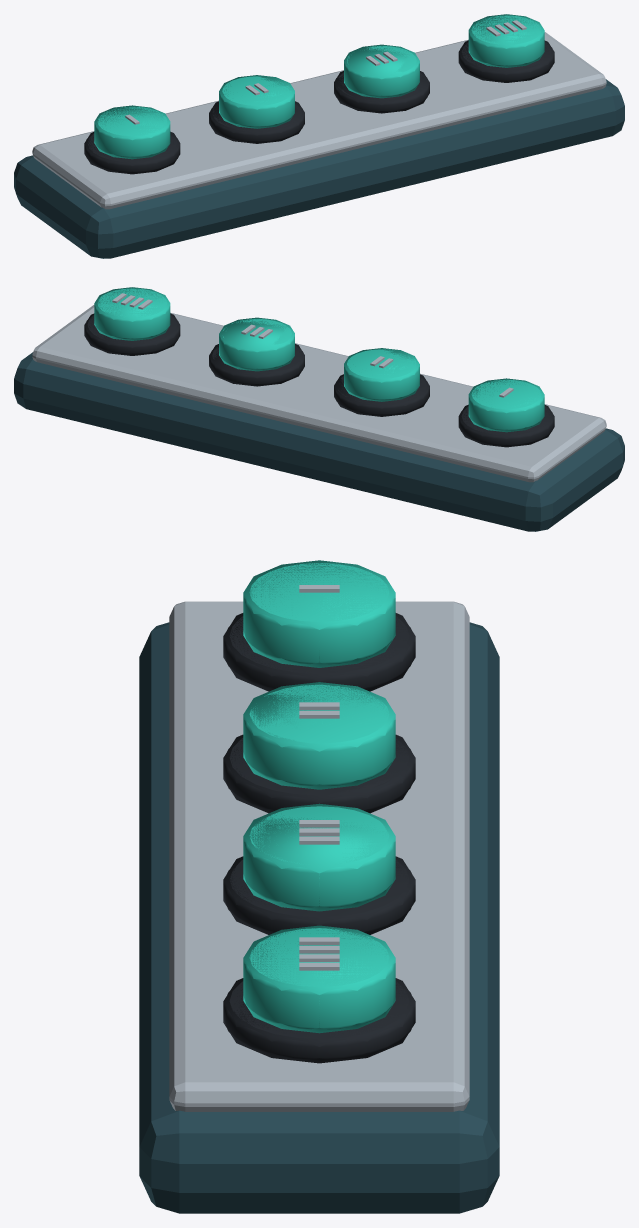
The model's file is panel-view-four.glb.
3 renders of one model, top to bottom at view 1: azimuth 30°, elevation 25°; view 2: azimuth 150°, elevation 25°; view 3: azimuth 270°, elevation 25°, orthographic. The views are drawn at different scales.
Parts seen in each view (by area): view 1: panel_shell, panel_face, view_1, view_2, view_4, view_3, view_3.001, view_4.001, view_1.001, socket1, socket4, socket2 (+6 smaller); view 2: panel_shell, panel_face, view_1, view_2, view_4, view_3, view_3.001, socket1, view_4.001, socket4, socket2, socket3 (+6 smaller); view 3: panel_face, panel_shell, view_1, view_2, view_4, view_3, view_3.001, socket4, socket1, socket3, socket2, view_2.001 (+6 smaller).
Boxes of the visible parts, x1=… form: panel_shell: x1=14, y1=79, x2=624, y2=258; panel_face: x1=32, y1=32, x2=606, y2=209; view_1: x1=94, y1=107, x2=170, y2=157; view_2: x1=219, y1=76, x2=294, y2=127; view_4: x1=468, y1=15, x2=544, y2=66; view_3: x1=344, y1=46, x2=419, y2=96; view_3.001: x1=344, y1=44, x2=419, y2=98; view_4.001: x1=468, y1=14, x2=544, y2=67; view_1.001: x1=94, y1=105, x2=170, y2=159; socket1: x1=84, y1=133, x2=180, y2=172; socket4: x1=458, y1=42, x2=554, y2=81; socket2: x1=209, y1=103, x2=304, y2=142; panel_shell: x1=14, y1=352, x2=624, y2=531; panel_face: x1=32, y1=305, x2=606, y2=482; view_1: x1=468, y1=379, x2=544, y2=430; view_2: x1=344, y1=349, x2=419, y2=400; view_4: x1=94, y1=288, x2=170, y2=339; view_3: x1=219, y1=319, x2=294, y2=369; view_3.001: x1=219, y1=317, x2=294, y2=371; socket1: x1=458, y1=406, x2=554, y2=445; view_4.001: x1=94, y1=287, x2=170, y2=340; socket4: x1=84, y1=315, x2=180, y2=354; socket2: x1=334, y1=376, x2=429, y2=415; socket3: x1=209, y1=345, x2=304, y2=384; panel_face: x1=169, y1=601, x2=469, y2=1111; panel_shell: x1=139, y1=622, x2=499, y2=1213; view_1: x1=243, y1=563, x2=395, y2=664; view_2: x1=243, y1=684, x2=395, y2=786; view_4: x1=243, y1=928, x2=395, y2=1030; view_3: x1=243, y1=806, x2=395, y2=908; view_3.001: x1=243, y1=803, x2=395, y2=911; socket4: x1=223, y1=981, x2=415, y2=1060; socket1: x1=223, y1=616, x2=415, y2=688; socket3: x1=223, y1=860, x2=415, y2=932; socket2: x1=223, y1=738, x2=415, y2=810; view_2.001: x1=243, y1=682, x2=395, y2=789.
Size of the model in its own units: 0.31 by 0.0545 by 0.09.
